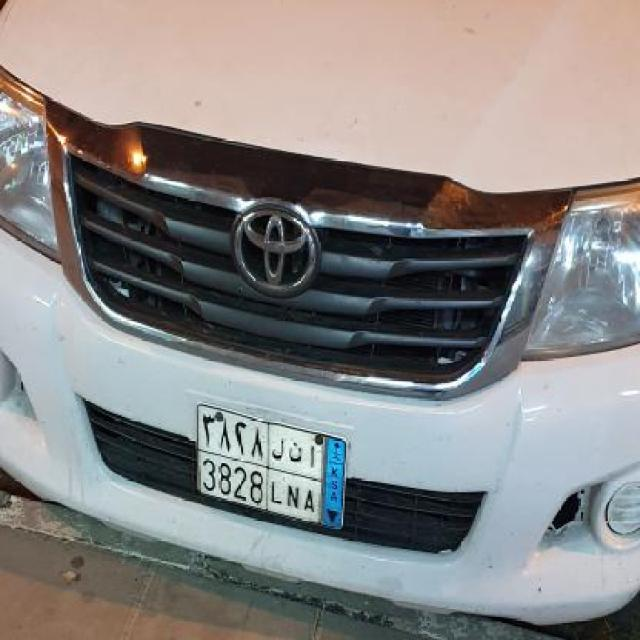license_plate: (193, 398, 349, 532)
